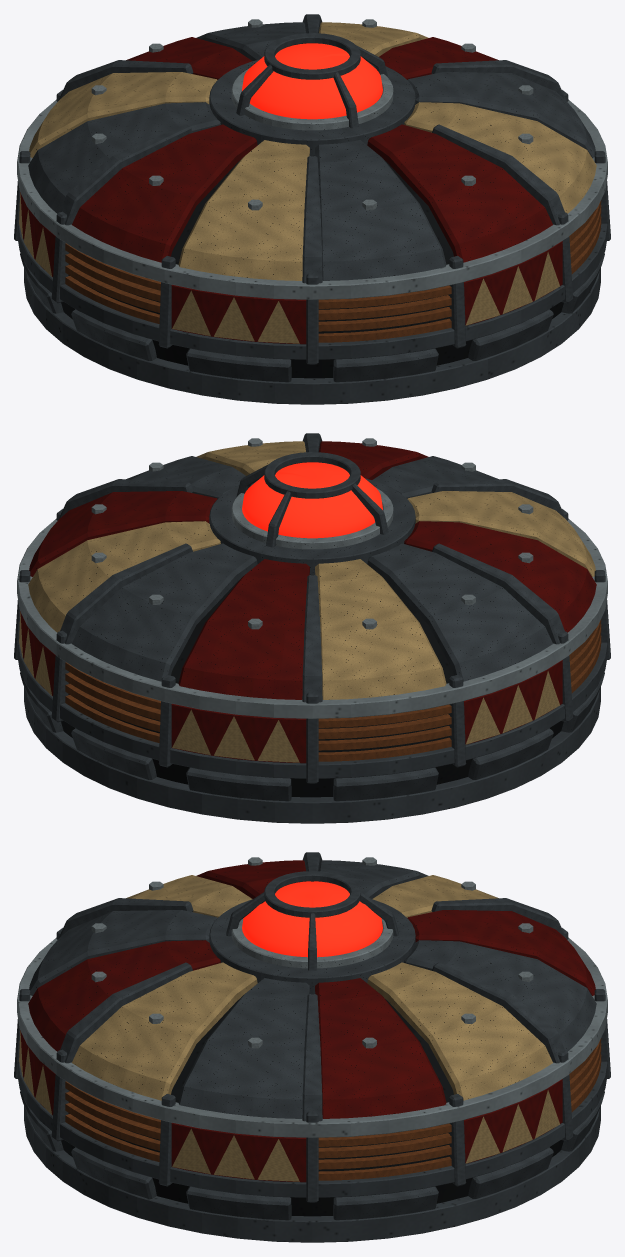
File: ProxyMine.glb
The picture shows the model from 3 angles, top to bottom: view 1: azimuth 30°, elevation 25°; view 2: azimuth 150°, elevation 25°; view 3: azimuth 270°, elevation 25°; orthographic projection.
Parts seen in each view (by area): view 1: ArmoredBody, BeaconLens; view 2: ArmoredBody, BeaconLens; view 3: ArmoredBody, BeaconLens.
Boxes of the visible parts, x1,y1,x2,y2 form: ArmoredBody: [14, 14, 610, 404]; BeaconLens: [242, 43, 382, 119]; ArmoredBody: [14, 433, 610, 823]; BeaconLens: [242, 462, 382, 538]; ArmoredBody: [14, 852, 610, 1242]; BeaconLens: [242, 881, 382, 957].
Size of the model in its own units: 1.3 by 0.598 by 1.3.
Materials: 7 (6 with a texture image).
